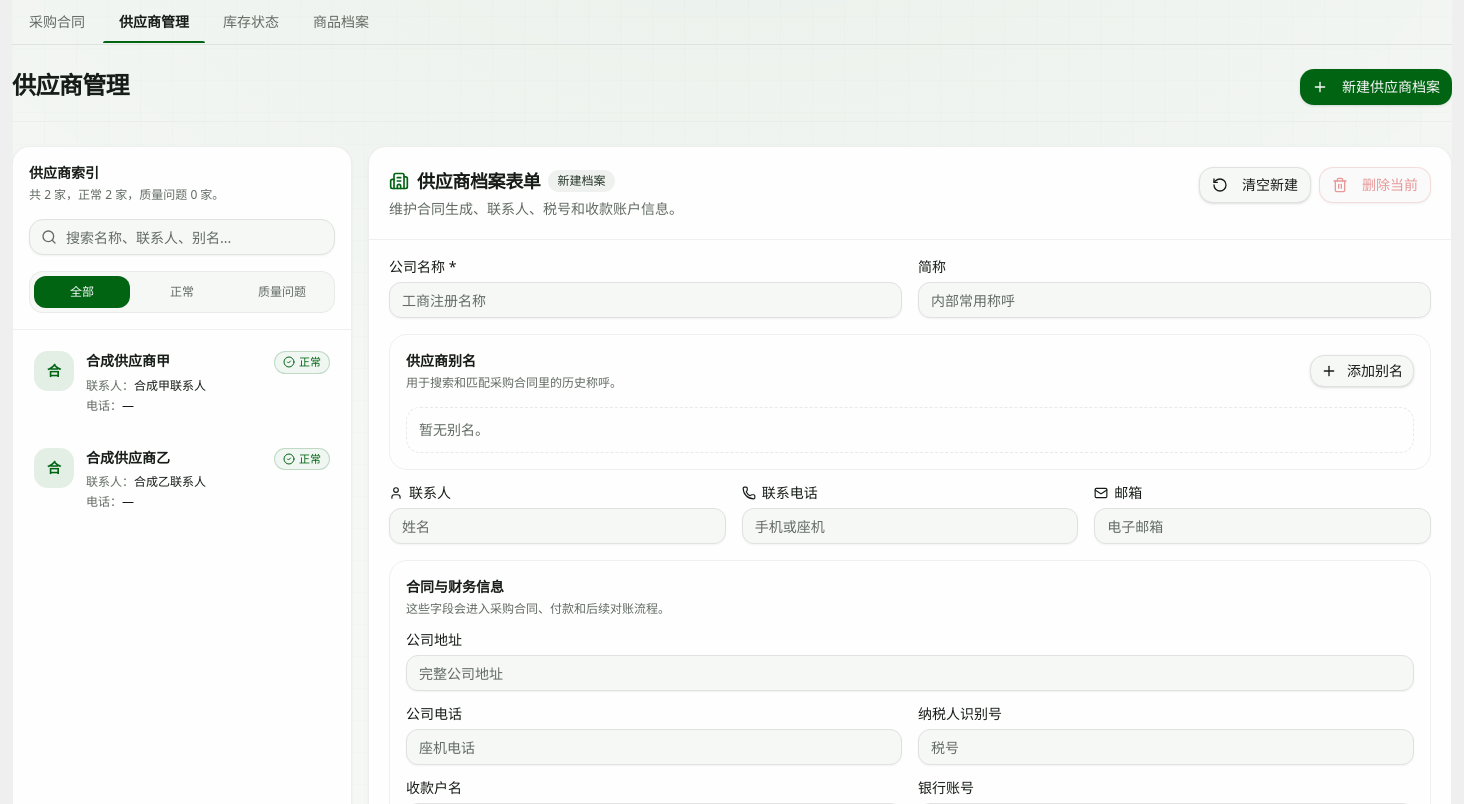
Test: supplier catalog identity and deletion sessions › late deletion cannot clear a newer selected supplier draft
This screenshot has width=1464, height=804.
Step 1. Click the button with aria-label "选择供应商 合成供应商甲" → (182, 382), box [21,338,343,426]
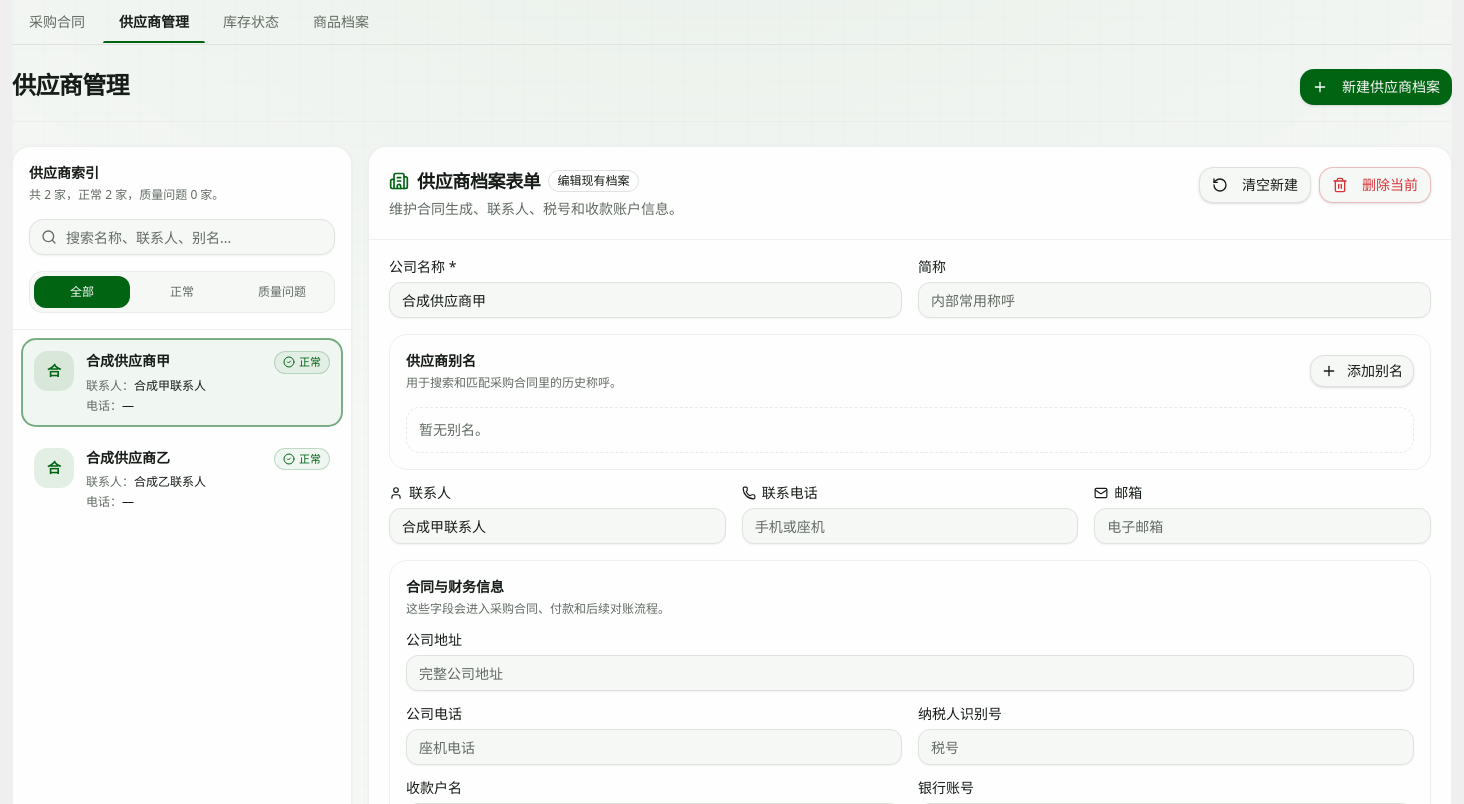
Step 2. Click the button "删除当前" → (1375, 185), box [1319,167,1431,203]
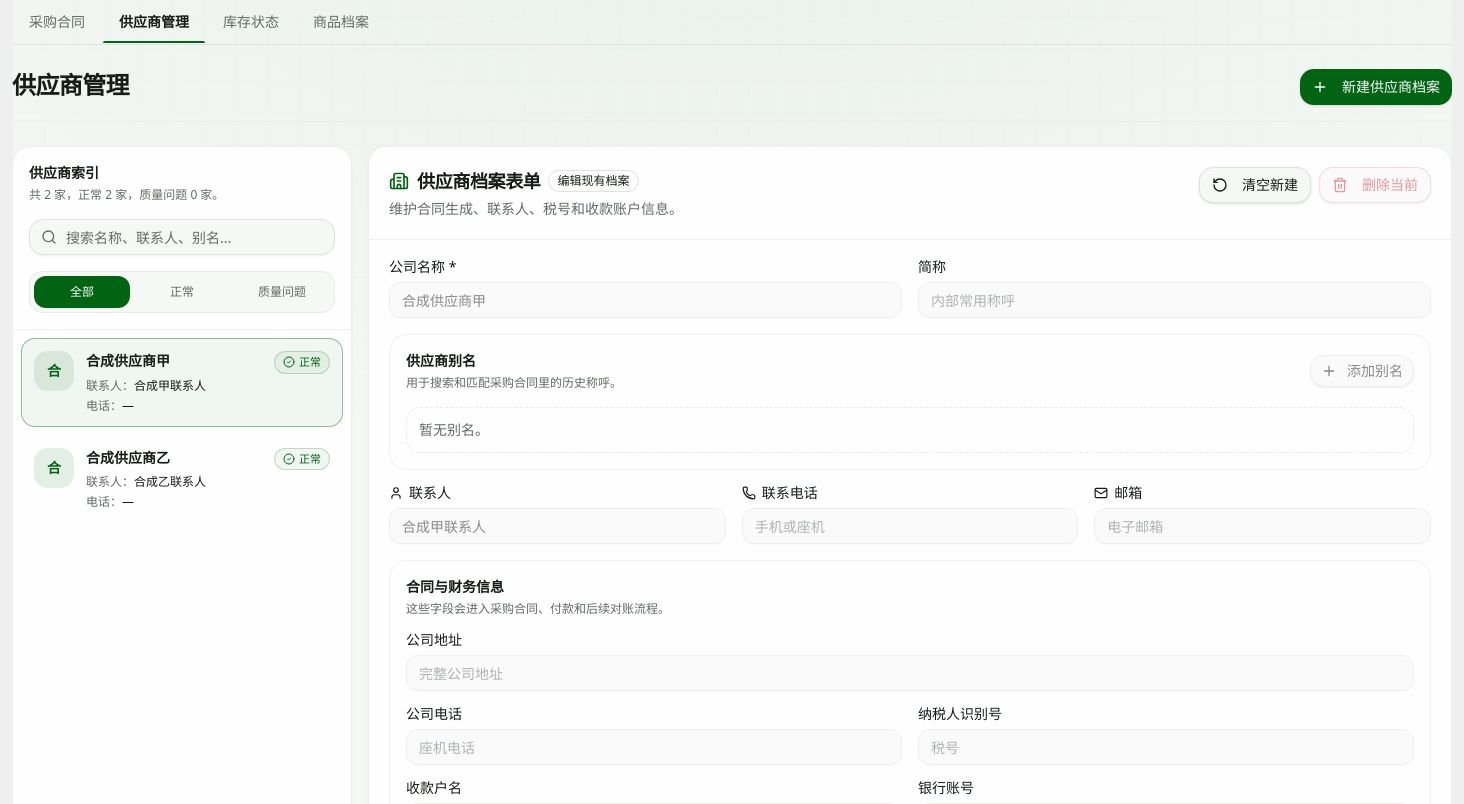
Step 3. Click the button with aria-label "选择供应商 合成供应商乙" → (182, 479), box [21,434,343,523]
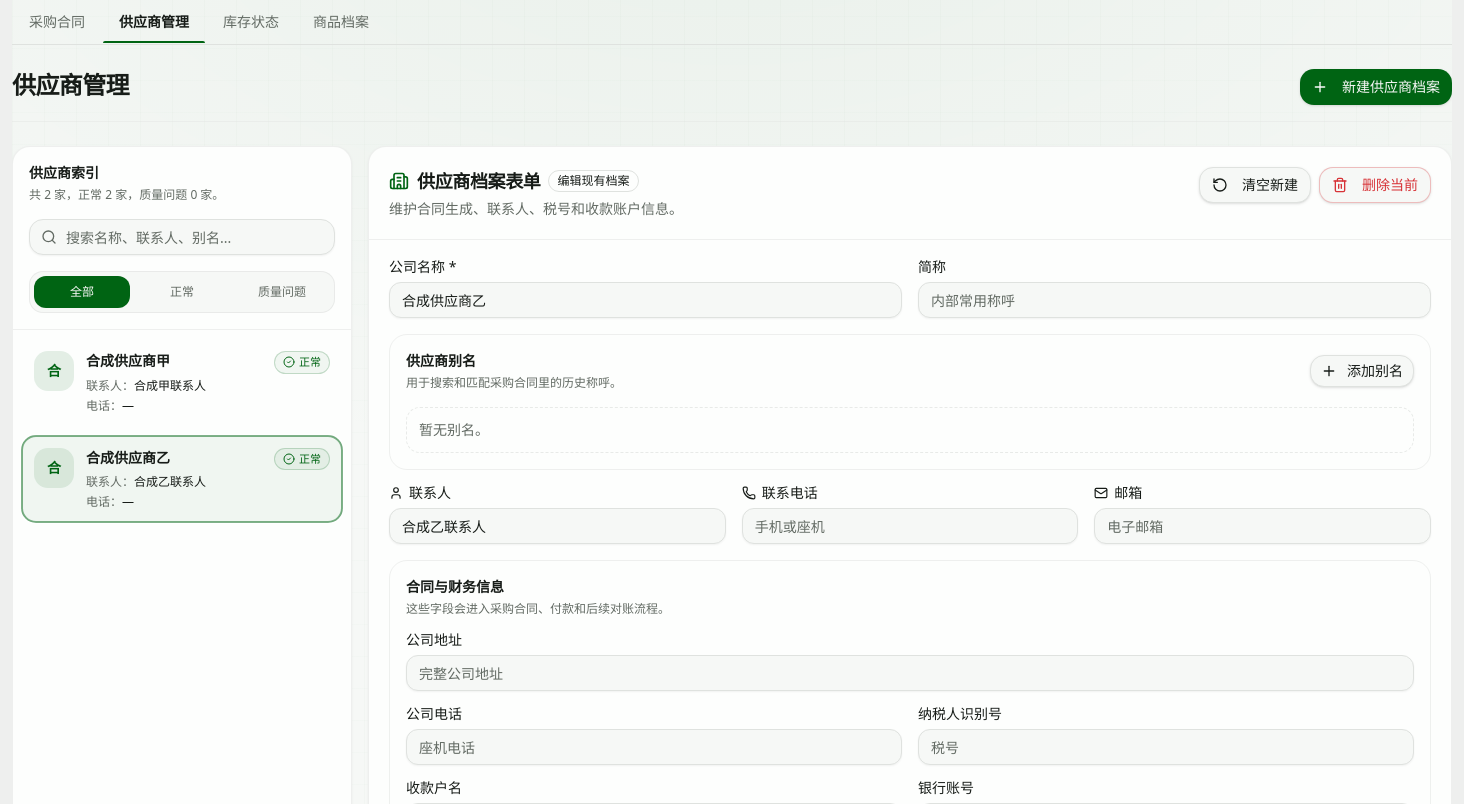
Step 4. Type "合成保留草稿" into the field labelled "联系人" → (557, 526), box [389,508,726,544]
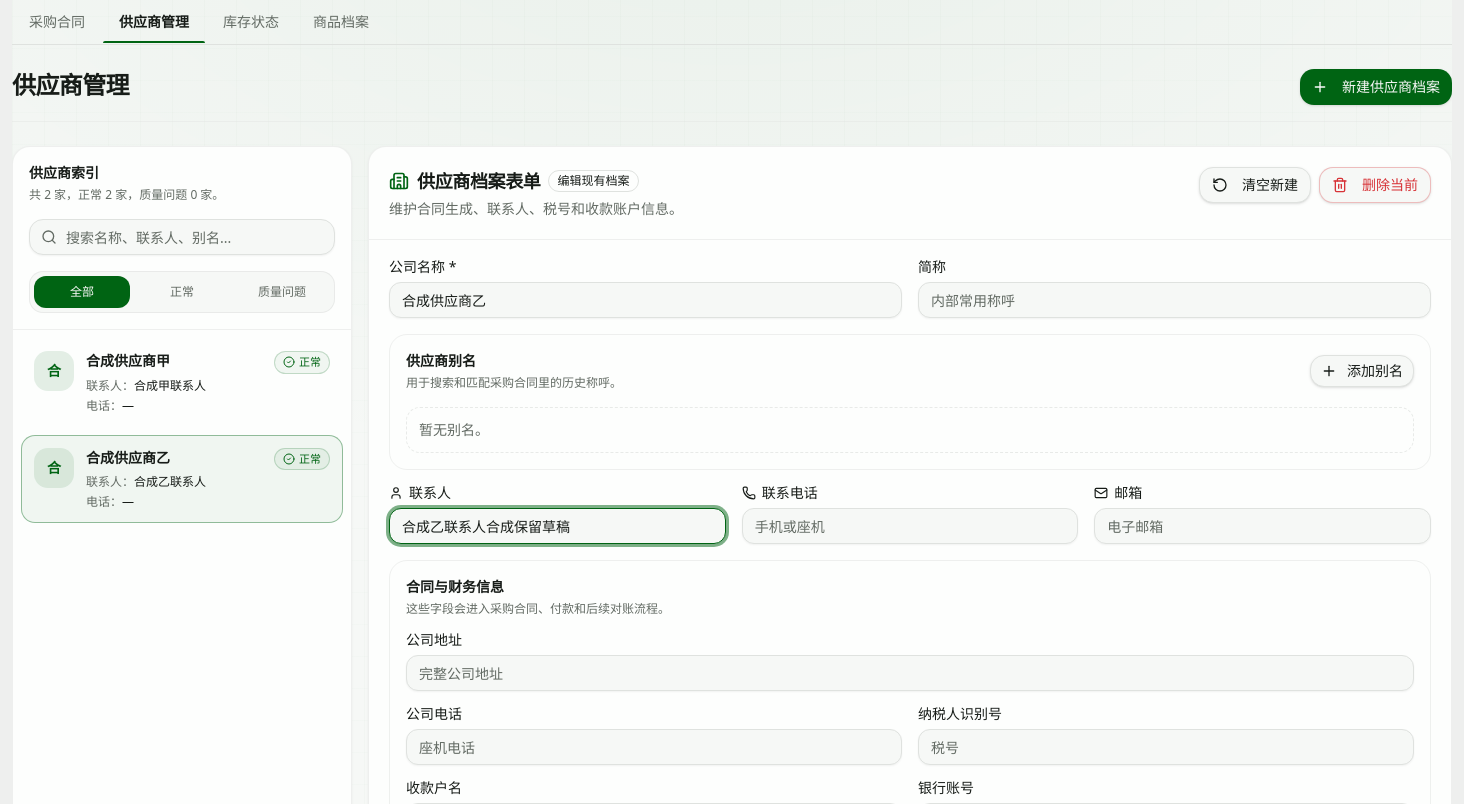
expect the field labelled "公司名称 *" holds "合成供应商乙": met, box [389,282,902,318]
expect the field labelled "联系人" holds "合成乙联系人合成保留草稿": met, box [389,508,726,544]
